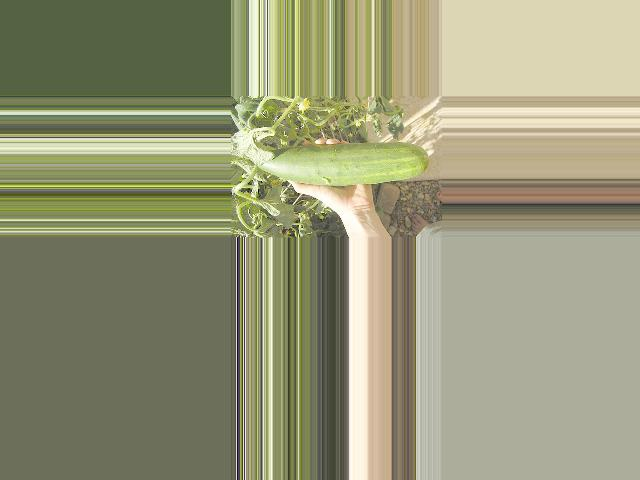cucumber: (255, 142, 429, 185)
